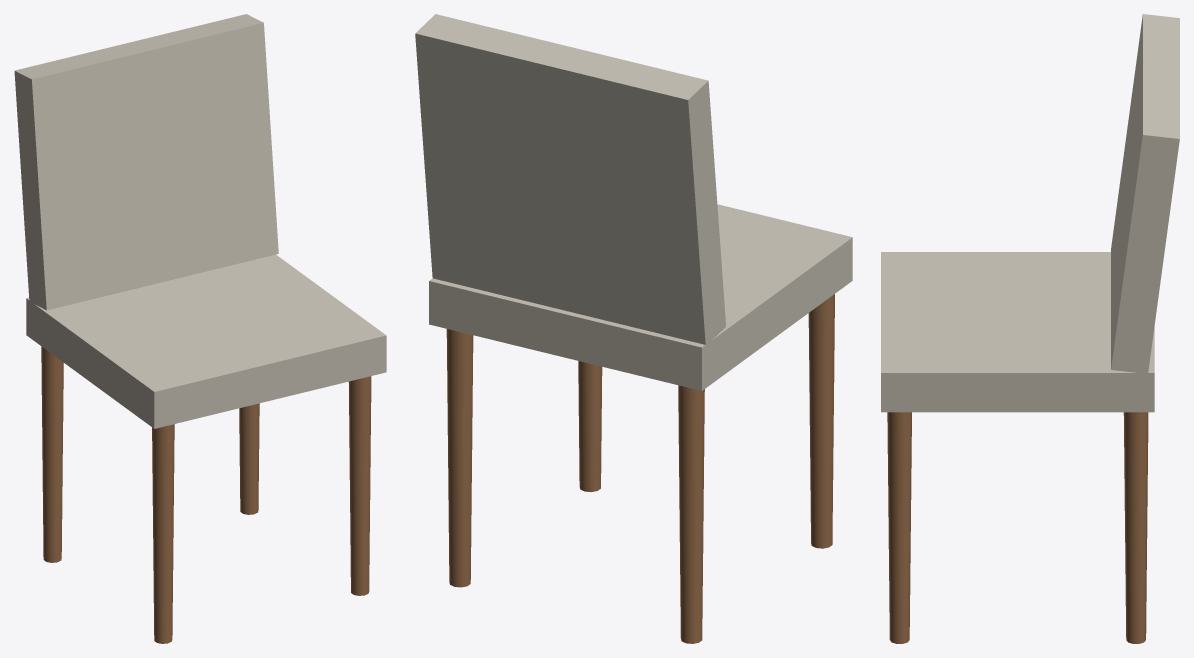
File: 22_krzeslo_tapicerowane.glb
The picture shows the model from 3 angles, left to right: view 1: azimuth 30°, elevation 25°; view 2: azimuth 150°, elevation 25°; view 3: azimuth 270°, elevation 25°; orthographic projection. The views are drawn at different scales.
Parts seen in each view (by area): view 1: Krzeslo_oparcie, Krzeslo_siedzisko, Krzeslo_nogi; view 2: Krzeslo_oparcie, Krzeslo_siedzisko, Krzeslo_nogi; view 3: Krzeslo_siedzisko, Krzeslo_oparcie, Krzeslo_nogi.
Part boxes in pixels (x1=…): Krzeslo_oparcie: x1=14, y1=14, x2=278, y2=310; Krzeslo_siedzisko: x1=26, y1=254, x2=386, y2=428; Krzeslo_nogi: x1=41, y1=346, x2=371, y2=643; Krzeslo_oparcie: x1=415, y1=14, x2=725, y2=345; Krzeslo_siedzisko: x1=429, y1=204, x2=852, y2=390; Krzeslo_nogi: x1=446, y1=294, x2=834, y2=643; Krzeslo_siedzisko: x1=881, y1=252, x2=1154, y2=412; Krzeslo_oparcie: x1=1111, y1=14, x2=1179, y2=373; Krzeslo_nogi: x1=887, y1=412, x2=1148, y2=643.
Bounding box in the file's own units: 0.46 × 0.9121 × 0.4804.
